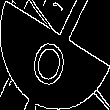O_NE: (32, 22, 78, 88)
